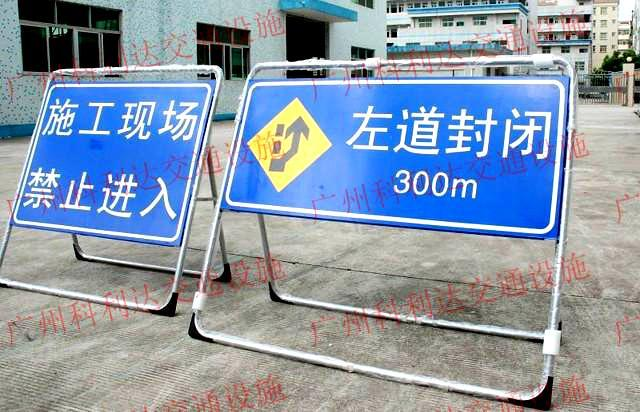sign: (217, 70, 571, 242), (8, 77, 209, 244)
